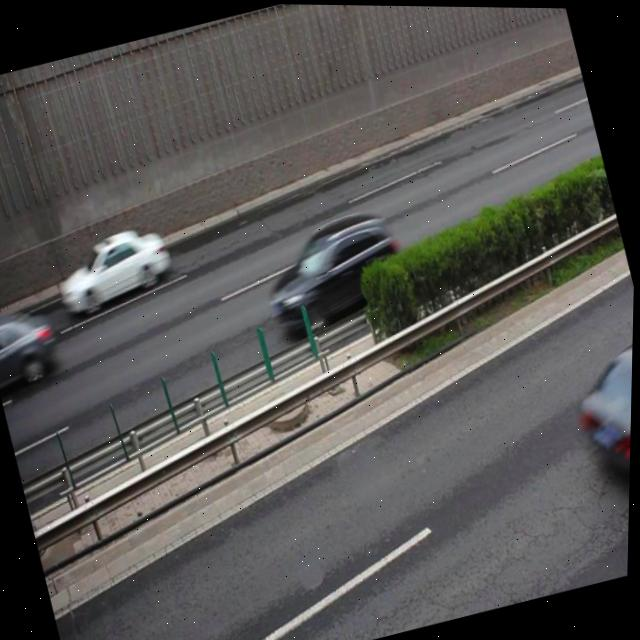car: (257, 203, 415, 338), (50, 217, 179, 318), (563, 337, 634, 495), (0, 307, 63, 394)
